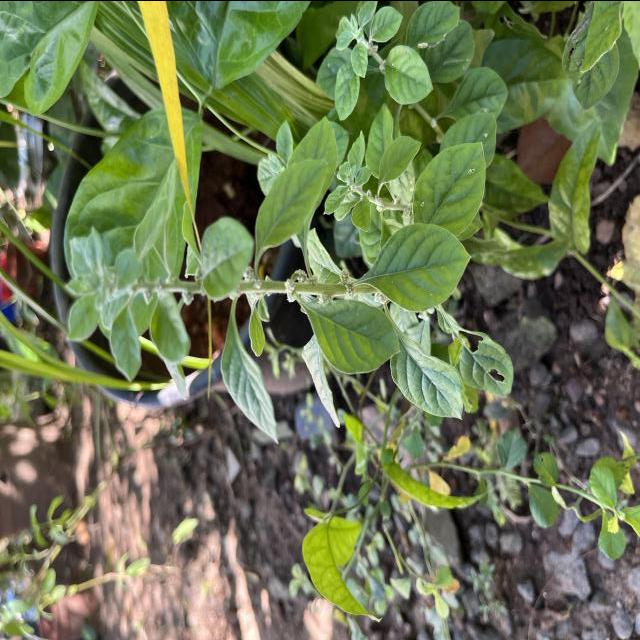Aerva lanata: (362, 219, 474, 313), (387, 322, 465, 421), (410, 138, 488, 236)
